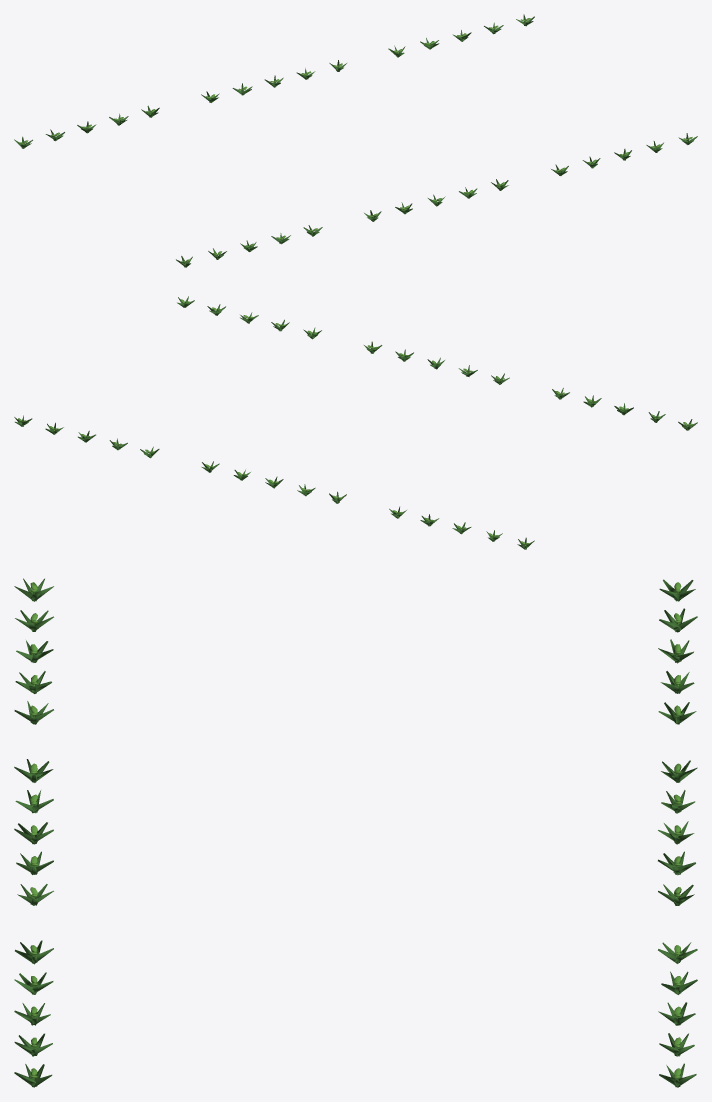
The model's file is crops-dong.glb.
The picture shows the model from 3 angles, top to bottom: view 1: azimuth 30°, elevation 25°; view 2: azimuth 150°, elevation 25°; view 3: azimuth 270°, elevation 25°; orthographic projection. The views are drawn at different scales.
Visible parts, largest first — view 1: crop-b3-young; view 2: crop-b5-young, crop-b4-young, crop-b12-young; view 3: crop-b14-young, crop-b3-young, crop-b5-young, crop-b12-young, crop-b13-young, crop-b4-young.
Boxes of the visible parts, x1,y1,x2,y2 form: crop-b3-young: (14,105,159,148); crop-b5-young: (14,415,159,458); crop-b4-young: (201,461,346,503); crop-b12-young: (552,388,697,430); crop-b14-young: (14,940,53,1087); crop-b3-young: (658,579,697,724); crop-b5-young: (658,942,697,1087); crop-b12-young: (14,578,53,724); crop-b13-young: (14,759,53,905); crop-b4-young: (658,760,697,905).
Bounding box in the file's own units: 2.77 × 0.0423 × 1.59.
